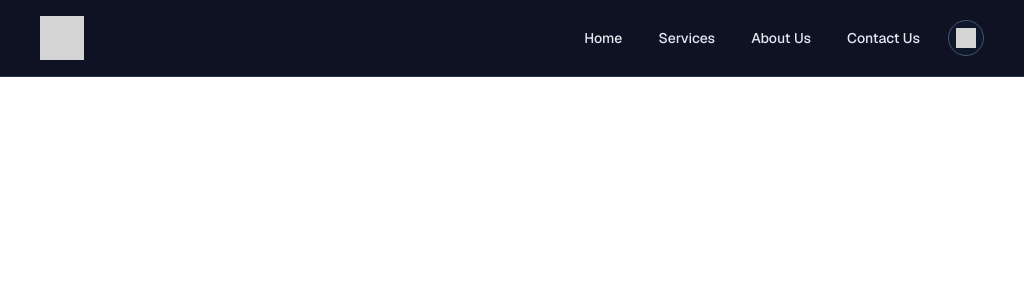
Test case: SiteHeader › closes services dropdown when clicked again
Click the button "Services". click: (687, 38)
box: [650,24,723,52]
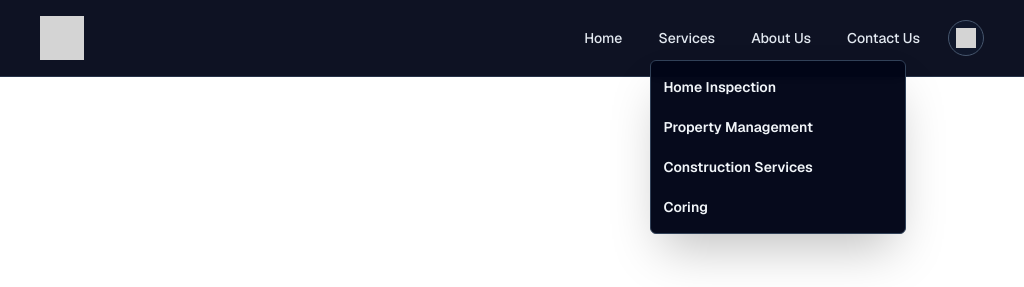
Check: the link "Home Inspection" is shown, box [663,78,776,96]
Click the button "Services". click: (687, 38)
box: [650,24,723,52]
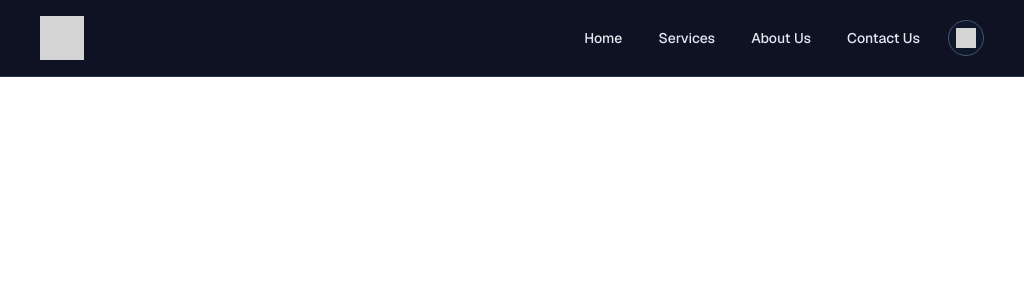
Check: the link "Home Inspection" is gone
